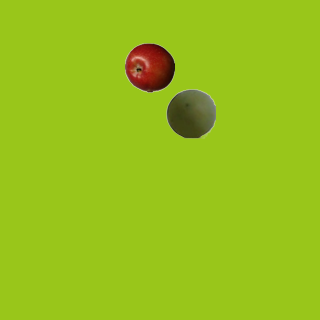Apple Braeburn: (124, 42, 174, 92)
Grape White 4: (165, 88, 215, 138)
